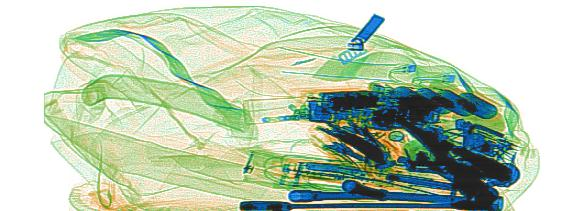battery: (365, 79, 500, 119)
